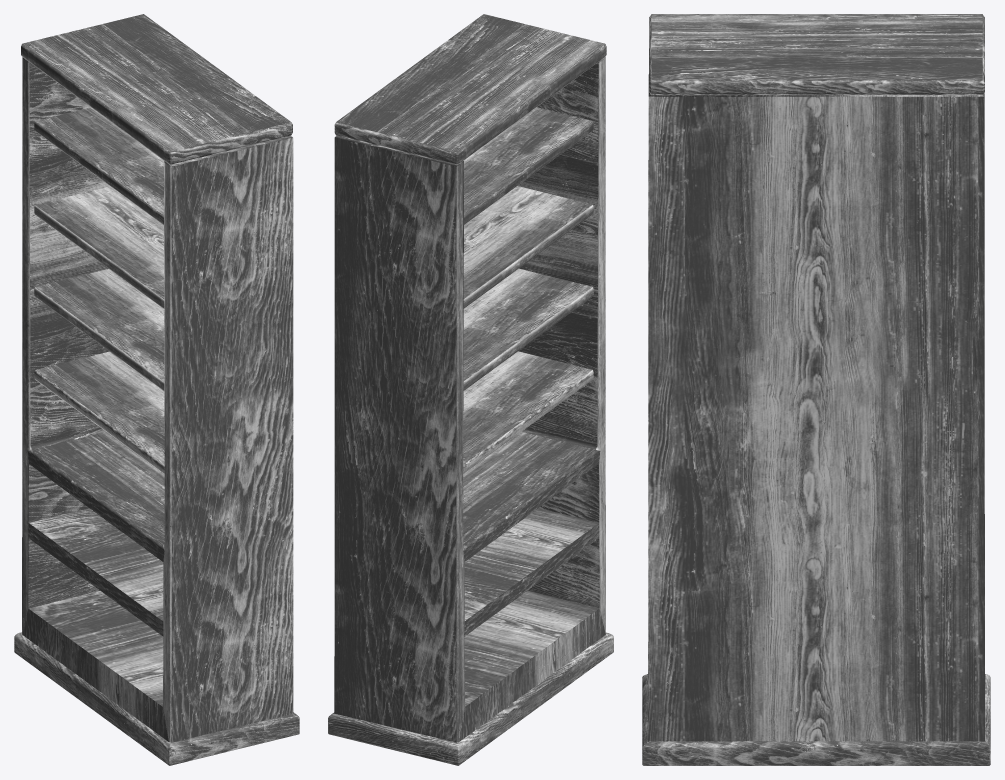
Rendered from SM_Wardrobe_A1.fbx.
3 renders of one model, left to right at view 1: azimuth 30°, elevation 25°; view 2: azimuth 150°, elevation 25°; view 3: azimuth 270°, elevation 25°, orthographic. The views are drawn at different scales.
Visible parts, largest first — view 1: SM_Wardrobe_A1; view 2: SM_Wardrobe_A1; view 3: SM_Wardrobe_A1.
Boxes of the visible parts, left/top/right/bottom form: SM_Wardrobe_A1: left=14, top=14, right=299, bottom=765; SM_Wardrobe_A1: left=328, top=14, right=613, bottom=765; SM_Wardrobe_A1: left=642, top=14, right=990, bottom=765.
Bounding box in the file's own units: 47.07 × 96.72 × 209.
Materials: 1 (1 with a texture image).
